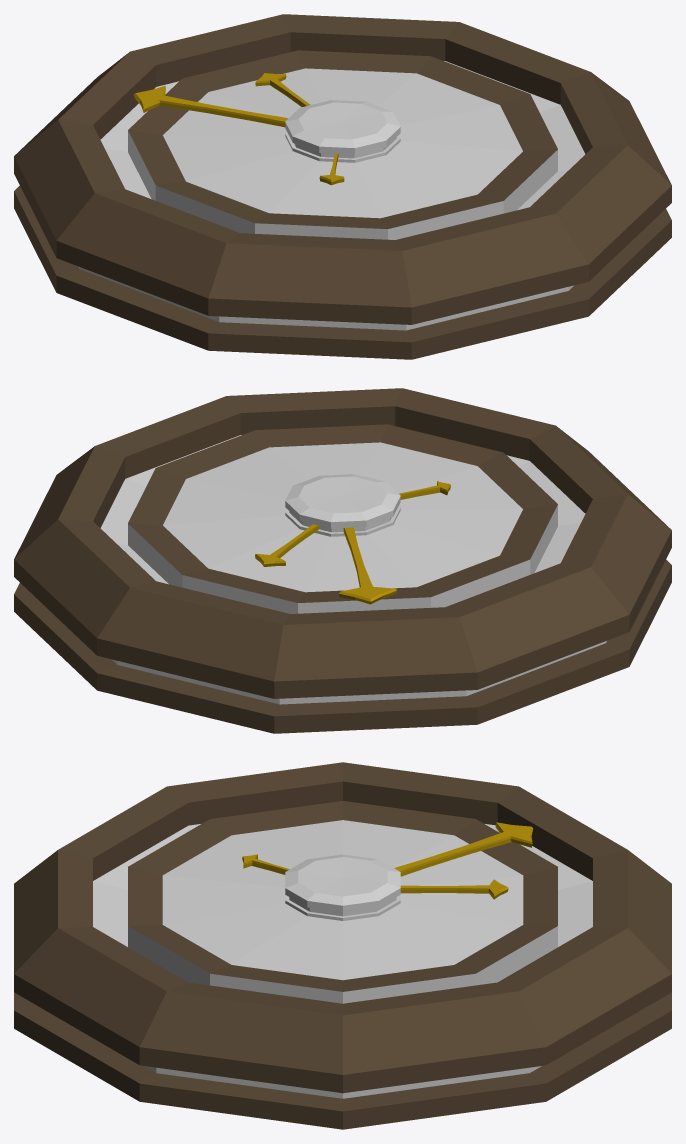
File: mod_clock.fbx
3 views of the same model, one above another, from view 1: azimuth 30°, elevation 25°; view 2: azimuth 150°, elevation 25°; view 3: azimuth 270°, elevation 25° (orthographic). The views are drawn at different scales.
Parts seen in each view (by area): view 1: mod_clock, mod_clock_arrow_big, mod_clock_arrow_medium; view 2: mod_clock, mod_clock_arrow_big, mod_clock_arrow_medium; view 3: mod_clock, mod_clock_arrow_big, mod_clock_arrow_medium.
Boxes of the visible parts, x1=… form: mod_clock: x1=14, y1=14, x2=671, y2=359; mod_clock_arrow_big: x1=133, y1=85, x2=288, y2=127; mod_clock_arrow_medium: x1=255, y1=73, x2=310, y2=106; mod_clock: x1=14, y1=388, x2=671, y2=733; mod_clock_arrow_big: x1=339, y1=527, x2=396, y2=604; mod_clock_arrow_medium: x1=255, y1=524, x2=319, y2=566; mod_clock: x1=14, y1=762, x2=671, y2=1129; mod_clock_arrow_big: x1=394, y1=822, x2=532, y2=876; mod_clock_arrow_medium: x1=400, y1=879, x2=508, y2=899.
Bounding box in the file's own units: 63.32 × 10.78 × 60.22.
